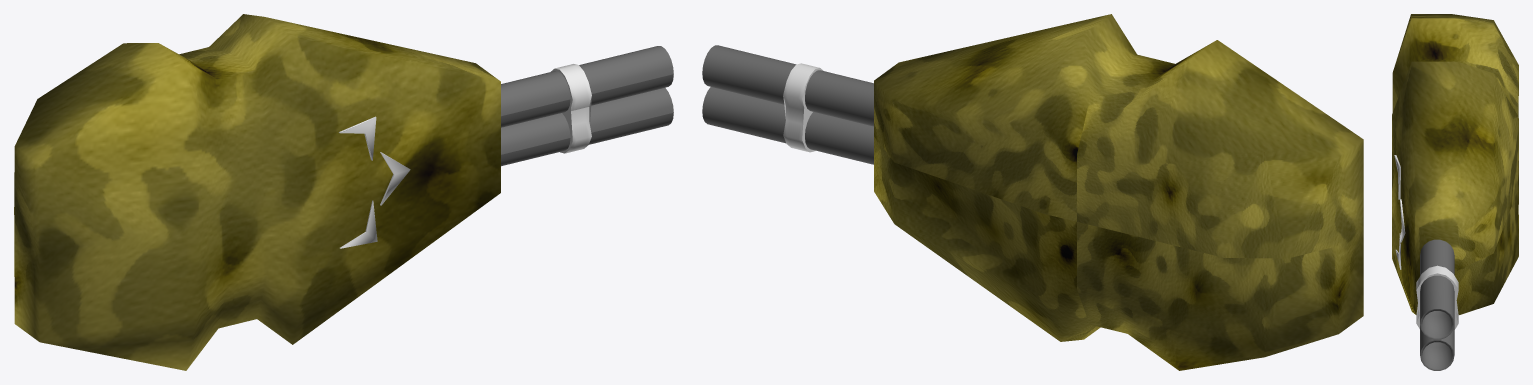
Rendered from shotgun_dead.fbx.
3 renders of one model, left to right at view 1: azimuth 30°, elevation 25°; view 2: azimuth 150°, elevation 25°; view 3: azimuth 270°, elevation 25°, orthographic. The views are drawn at different scales.
Parts seen in each view (by area): view 1: Body0, Tube01_None, Color; view 2: Body0, Tube01_None, Color; view 3: Body0, Tube01_None, Color.
Part boxes in pixels (box(x1,y1,x2,y2)): Body0: box(14, 14, 500, 370); Tube01_None: box(501, 46, 673, 166); Color: box(339, 64, 591, 248); Body0: box(874, 14, 1363, 370); Tube01_None: box(702, 45, 873, 164); Color: box(783, 63, 823, 152); Body0: box(1392, 14, 1518, 314); Tube01_None: box(1420, 239, 1454, 370); Color: box(1394, 155, 1458, 329).
Bounding box in the file's own units: 66.93 × 30.76 × 14.14.
2 materials, 2 textured.
